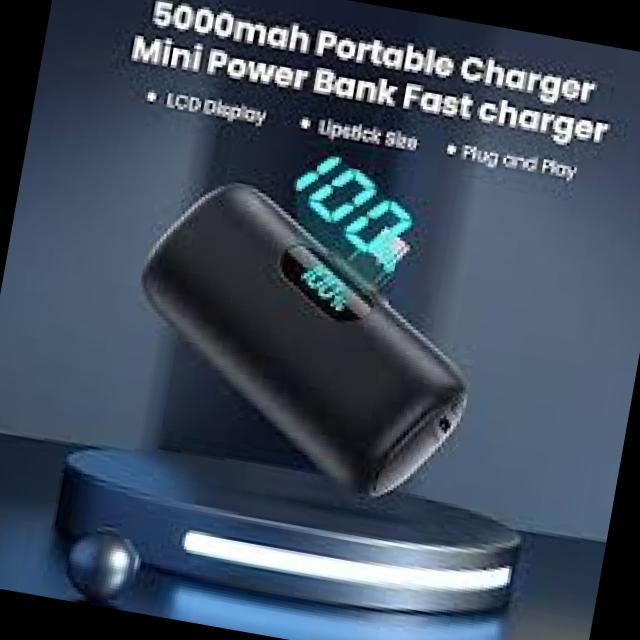power_bank: (107, 163, 499, 526)
